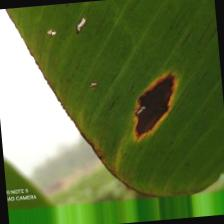cordana: (4, 0, 224, 208)
